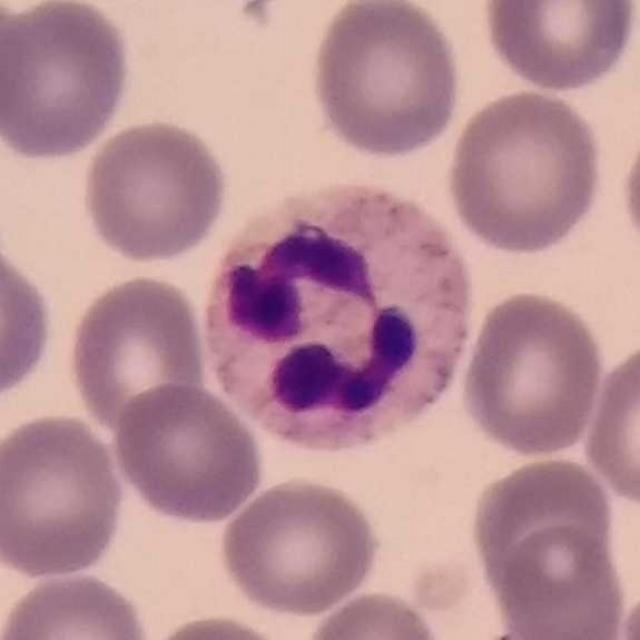Neutrophil: (194, 178, 483, 472)
RBC: (442, 86, 608, 257), (456, 287, 608, 460), (304, 0, 466, 160), (62, 270, 210, 437), (215, 473, 384, 619), (464, 453, 619, 612), (76, 116, 232, 266), (109, 378, 267, 526), (0, 0, 135, 165), (0, 410, 129, 581), (488, 522, 628, 639), (477, 0, 640, 95), (0, 567, 153, 640), (580, 336, 640, 511), (0, 234, 58, 411), (302, 586, 446, 640), (137, 611, 297, 640), (615, 106, 640, 271), (614, 582, 640, 640)
